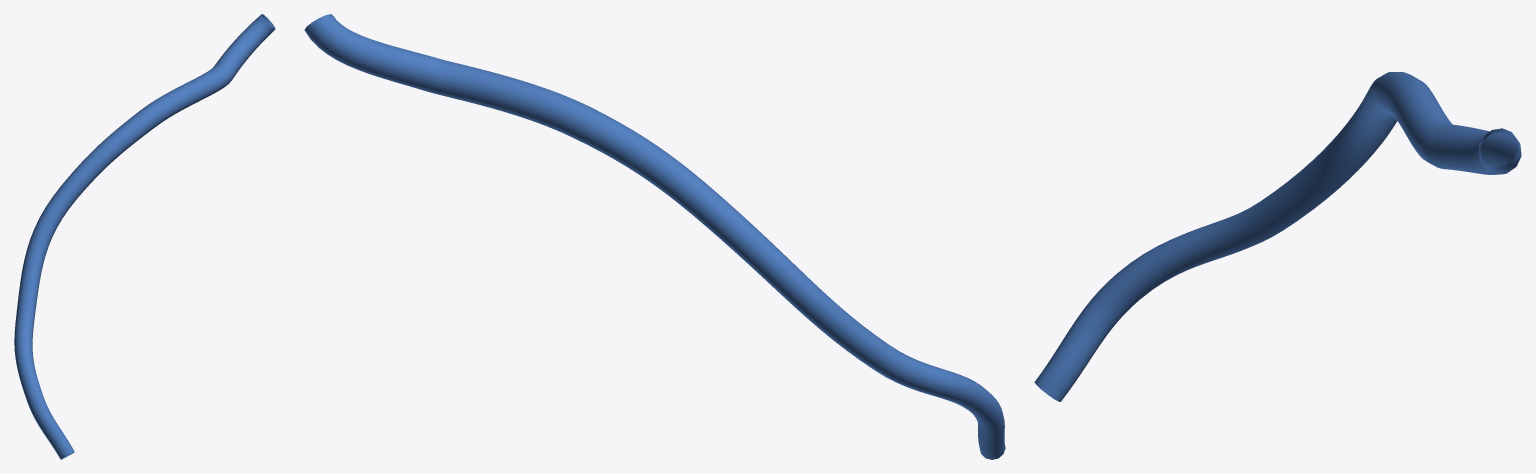
The picture shows the model from 3 angles, left to right: view 1: azimuth 30°, elevation 25°; view 2: azimuth 150°, elevation 25°; view 3: azimuth 270°, elevation 25°; orthographic projection. The views are drawn at different scales.
Visible parts, largest first — view 1: 左侧岩下窦; view 2: 左侧岩下窦; view 3: 左侧岩下窦.
Part boxes in pixels (box(x1,y1,x2,y2)): 左侧岩下窦: box(14, 14, 275, 459); 左侧岩下窦: box(304, 14, 1005, 459); 左侧岩下窦: box(1034, 72, 1521, 401).
Bounding box in the file's own units: 0.056 × 0.0451 × 0.0347.
